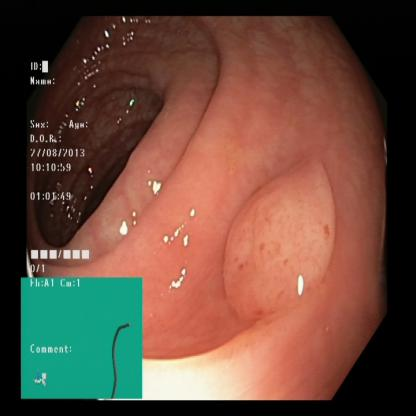Labels: (28, 54, 102, 274), (22, 278, 144, 402)
Polyps: (226, 159, 341, 321)
